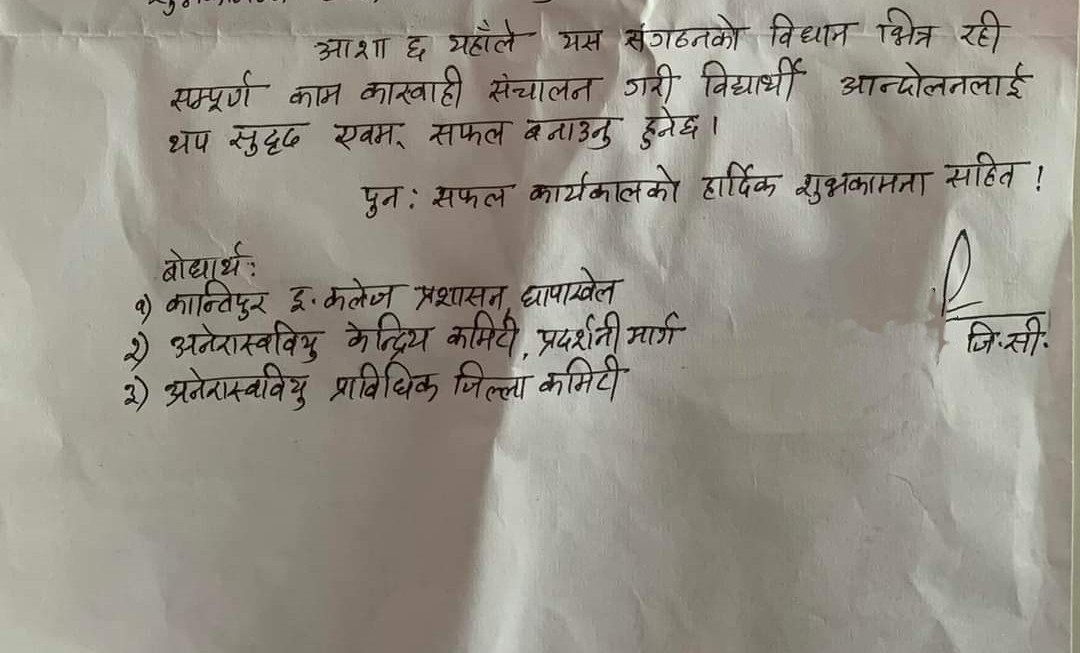text: (830, 58, 1036, 100), (524, 162, 685, 211), (161, 364, 308, 414), (790, 161, 930, 208), (167, 324, 321, 361), (326, 361, 441, 409), (538, 356, 637, 410), (695, 57, 810, 103), (514, 264, 623, 309), (163, 66, 263, 112), (622, 14, 742, 52), (696, 157, 782, 209), (939, 142, 1020, 197), (482, 68, 599, 106), (337, 315, 439, 358), (356, 67, 465, 107), (165, 281, 267, 323), (155, 240, 259, 280), (451, 361, 529, 410), (441, 16, 528, 59), (521, 112, 615, 150), (531, 313, 618, 353), (427, 177, 516, 216), (229, 120, 308, 162), (766, 13, 855, 50), (447, 311, 520, 356), (424, 115, 512, 150), (408, 281, 510, 311), (633, 107, 704, 150), (321, 275, 402, 311), (306, 31, 391, 65), (950, 9, 1014, 54), (325, 118, 405, 153), (872, 6, 934, 51), (625, 310, 686, 351), (352, 178, 405, 225), (619, 62, 675, 102), (161, 121, 216, 161), (552, 23, 613, 59), (286, 76, 343, 110), (1005, 319, 1048, 361), (962, 317, 997, 361), (281, 278, 310, 314), (118, 375, 144, 414), (128, 288, 152, 328), (399, 31, 430, 61), (123, 330, 149, 363)
